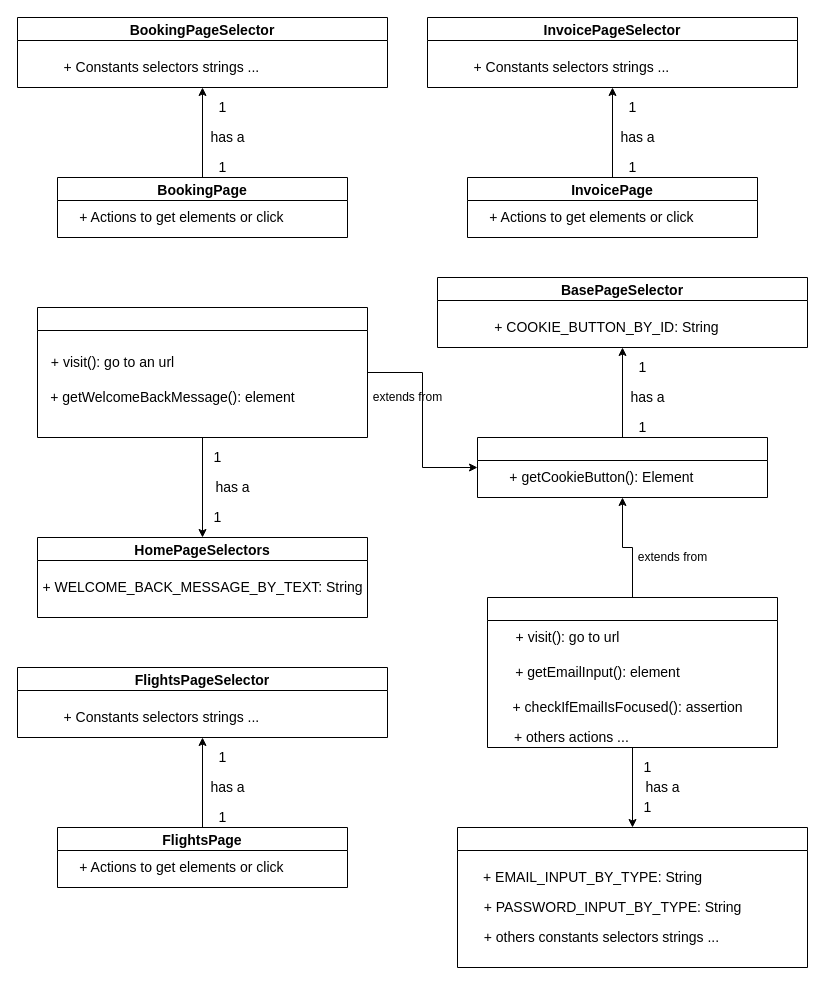
This 825x985 diagram has some shape labels left out. The box of each missing label's shape, as (x1, y1, x2, y2) in pixels:
BasePage: (476, 436, 768, 498)
HomePage: (36, 306, 368, 438)
LoginPage: (486, 596, 778, 748)
LoginPageSelectors: (456, 826, 808, 968)
